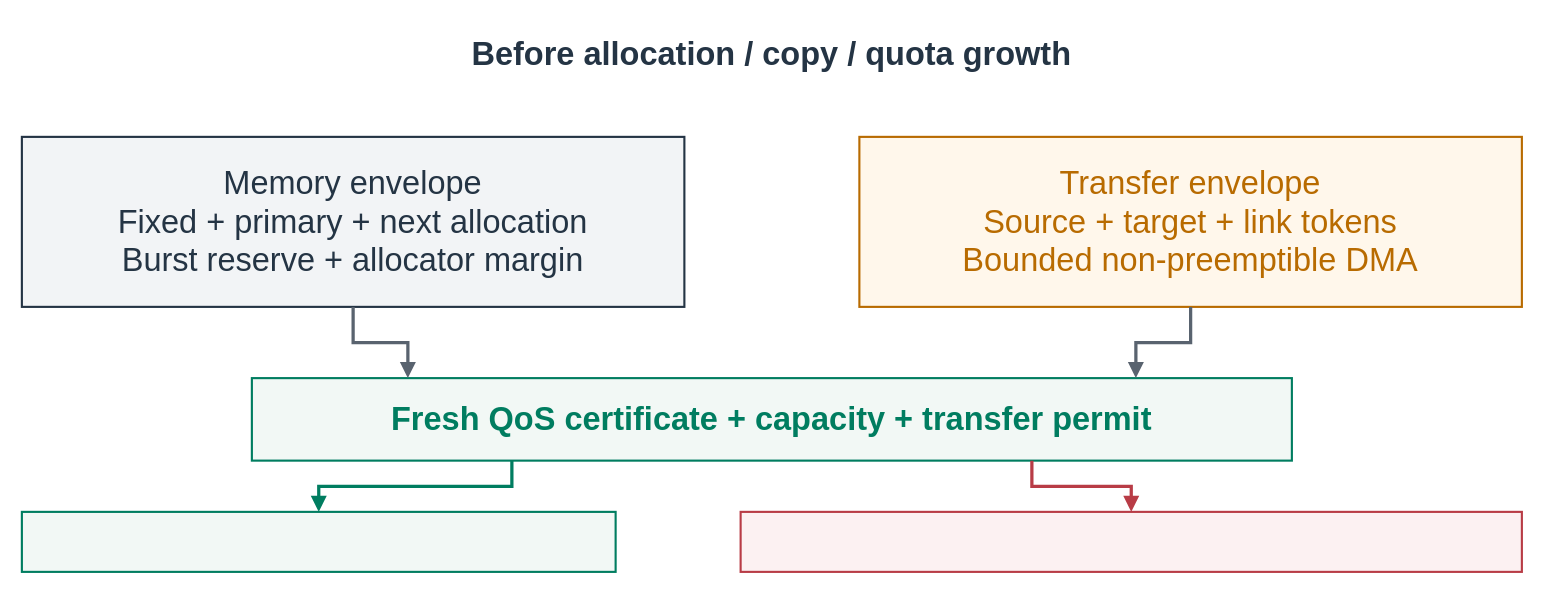
The diagram is 1545 pixels wide and 595 high, and some of its shapes have lost their labels. The shapes that lost their labels are listed below. From the top down, each one's centre as x and y in pixels, then its label:
[318,541]: Valid: admit / bounded growth
[1130,541]: Invalid: revoke; await free ACK
